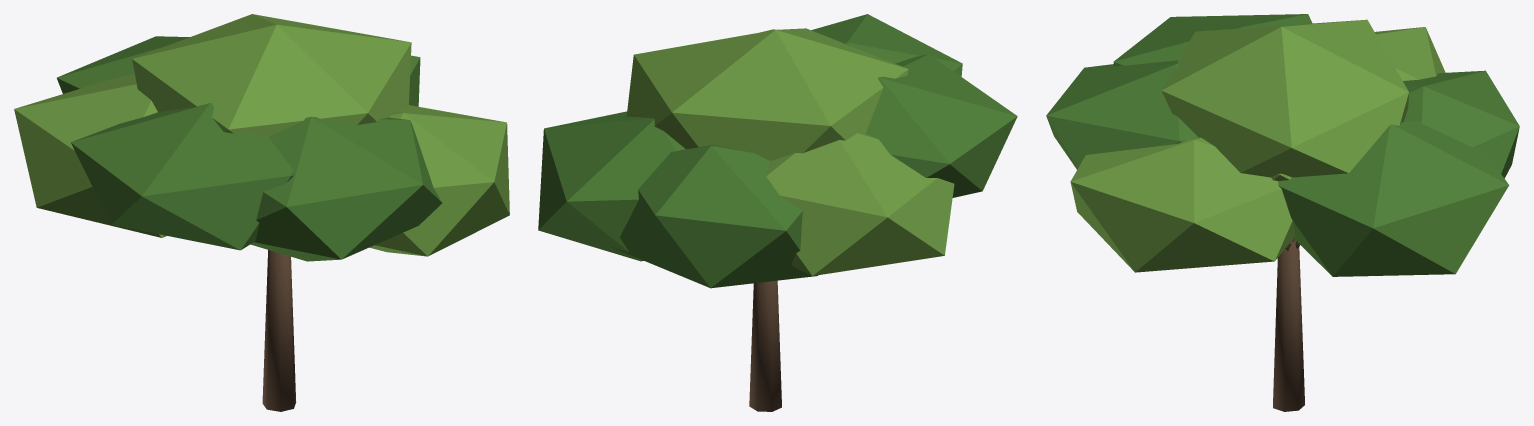
File: tree-rain.glb
The picture shows the model from 3 angles, left to right: view 1: azimuth 30°, elevation 25°; view 2: azimuth 150°, elevation 25°; view 3: azimuth 270°, elevation 25°; orthographic projection. The views are drawn at different scales.
Parts seen in each view (by area): view 1: CrownTop, Crown4, Crown5, Crown6, Crown3, Trunk, Crown2, Crown1; view 2: CrownTop, Crown2, Crown3, Crown1, Crown4, Trunk, Crown5; view 3: CrownTop, Crown1, Crown6, Crown5, Crown2, Trunk, Crown4, Crown3.
Part boxes in pixels (box(x1,y1,x2,y2)): CrownTop: box(132, 14, 411, 136); Crown4: box(71, 103, 293, 250); Crown5: box(250, 116, 442, 261); Crown6: box(369, 105, 509, 256); Crown3: box(14, 74, 166, 237); Trunk: box(262, 250, 296, 411); Crown2: box(57, 36, 189, 93); Crown1: box(409, 55, 420, 106); CrownTop: box(626, 28, 908, 160); Crown2: box(611, 144, 818, 288); Crown3: box(766, 133, 954, 275); Crown1: box(538, 111, 685, 261); Crown4: box(865, 54, 1017, 197); Trunk: box(749, 280, 781, 411); Crown5: box(811, 14, 962, 76); CrownTop: box(1161, 19, 1408, 177); Crown1: box(1278, 120, 1509, 276); Crown6: box(1070, 137, 1295, 272); Crown5: box(1046, 60, 1197, 169); Crown2: box(1403, 70, 1519, 178); Trunk: box(1273, 240, 1304, 411); Crown4: box(1113, 14, 1312, 66); Crown3: box(1375, 27, 1445, 80).
Bounding box in the file's own units: 8.48 × 7.83 × 8.97.
